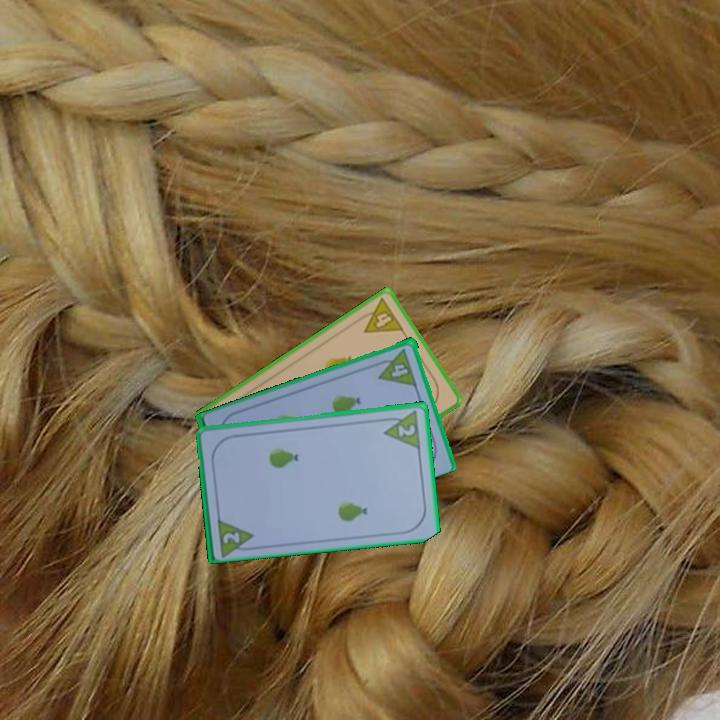2p: (219, 528, 243, 547), (394, 421, 418, 439)
4p: (353, 294, 407, 336), (372, 345, 420, 388)
